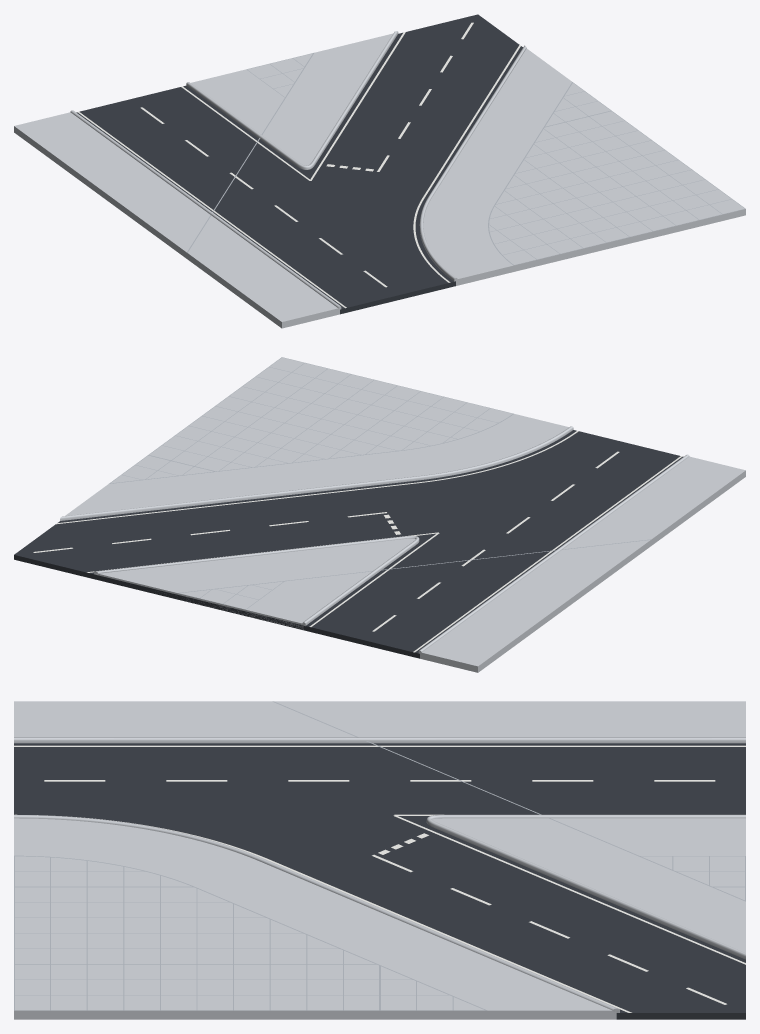
The model's file is rua_diagonal_bifurcacao_direita.glb.
3 renders of one model, top to bottom at view 1: azimuth 30°, elevation 25°; view 2: azimuth 150°, elevation 25°; view 3: azimuth 270°, elevation 25°, orthographic. The views are drawn at different scales.
Parts seen in each view (by area): view 1: rua_diagonal_bifurcacao_direita; view 2: rua_diagonal_bifurcacao_direita; view 3: rua_diagonal_bifurcacao_direita.
Boxes of the visible parts, <box> form: rua_diagonal_bifurcacao_direita: <box>14,14,745,328</box>; rua_diagonal_bifurcacao_direita: <box>14,357,745,672</box>; rua_diagonal_bifurcacao_direita: <box>14,701,745,1019</box>.
Bounding box in the file's own units: 30 × 0.5 × 30.
1 material, 1 textured.
